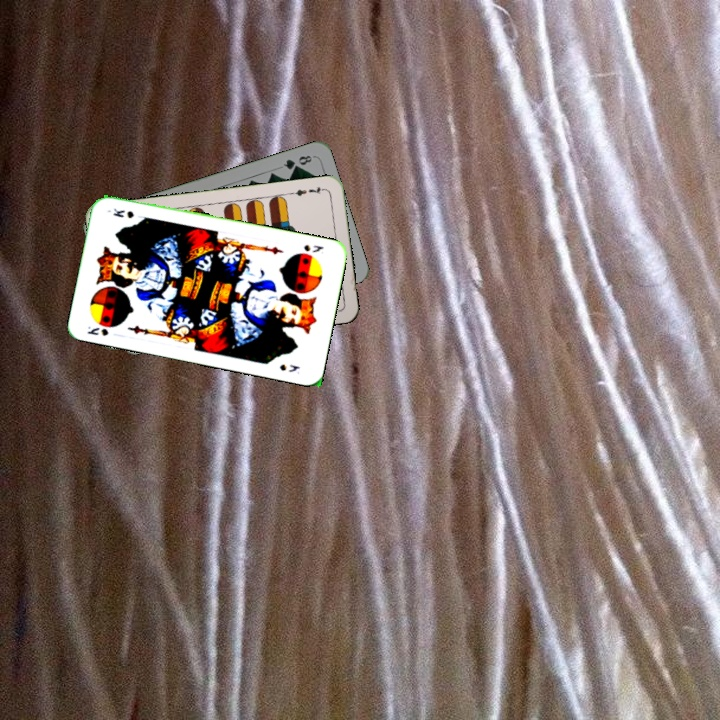E7: (287, 182, 327, 199)
G8: (279, 151, 315, 172)
SK: (83, 322, 111, 338), (300, 241, 326, 255)
